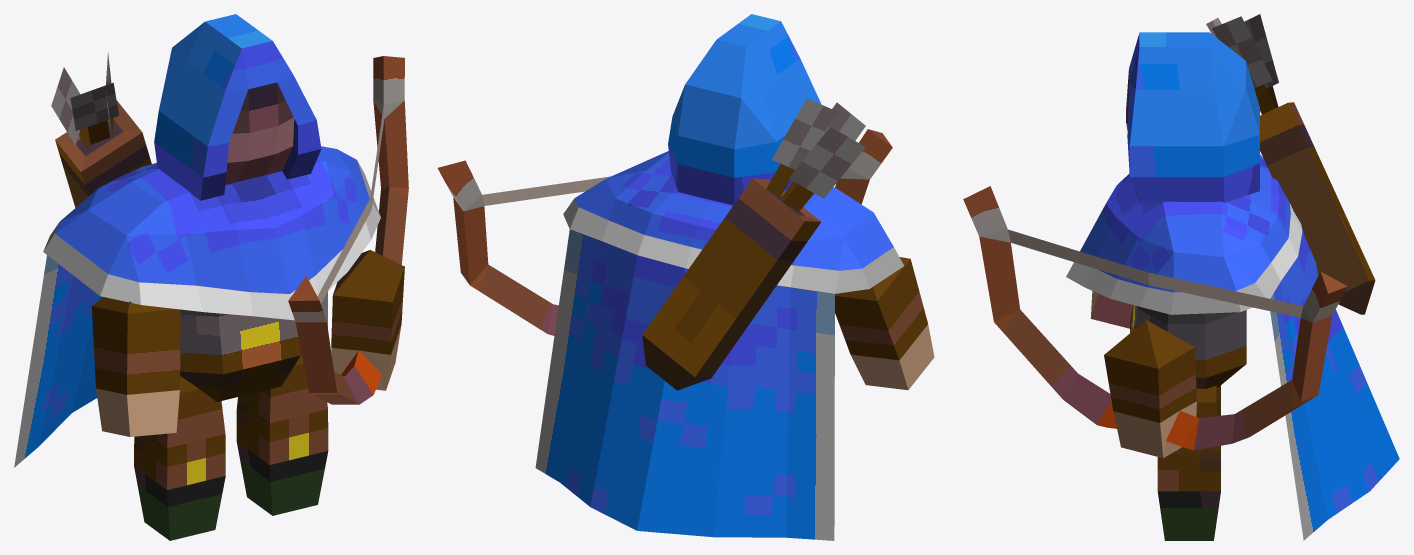
Rendered from archer.fbx.
3 renders of one model, left to right at view 1: azimuth 30°, elevation 25°; view 2: azimuth 150°, elevation 25°; view 3: azimuth 270°, elevation 25°, orthographic. The views are drawn at different scales.
Visible parts, largest first — view 1: archer.001; view 2: archer.001; view 3: archer.001.
Part boxes in pixels (bbox=[...]): archer.001: bbox=[14, 14, 408, 540]; archer.001: bbox=[437, 14, 934, 540]; archer.001: bbox=[963, 14, 1399, 540].
Bounding box in the file's own units: 98.05 × 112 × 95.11.
